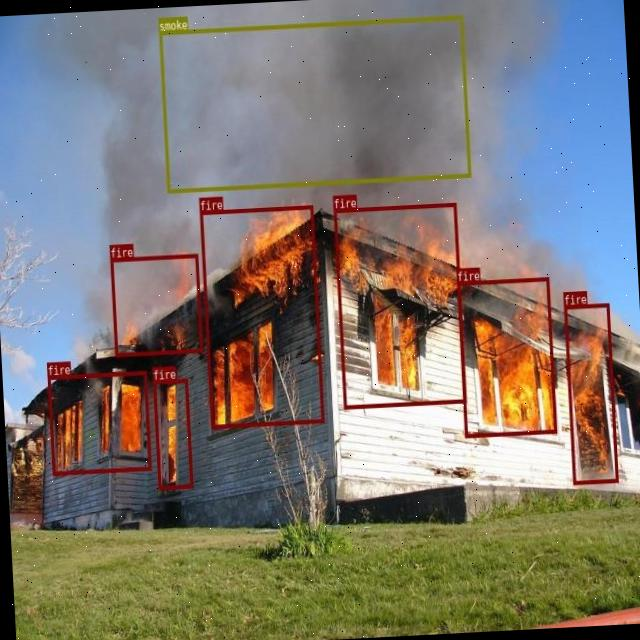fire: (200, 204, 324, 428), (334, 203, 466, 408), (456, 277, 556, 437), (47, 371, 152, 475), (564, 303, 618, 484), (110, 254, 202, 356), (153, 379, 193, 490)
smoke: (158, 15, 470, 193)
